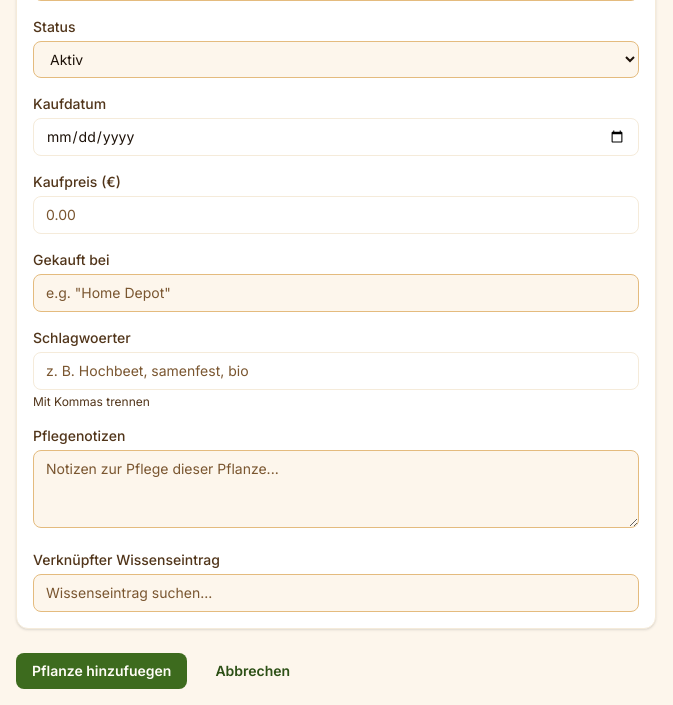
Test: PlantFormPage › create mode › shows validation error when species is empty
(page scrolled)
Click the button "Pflanze hinzufuegen": click(102, 671) [16,653,187,689]
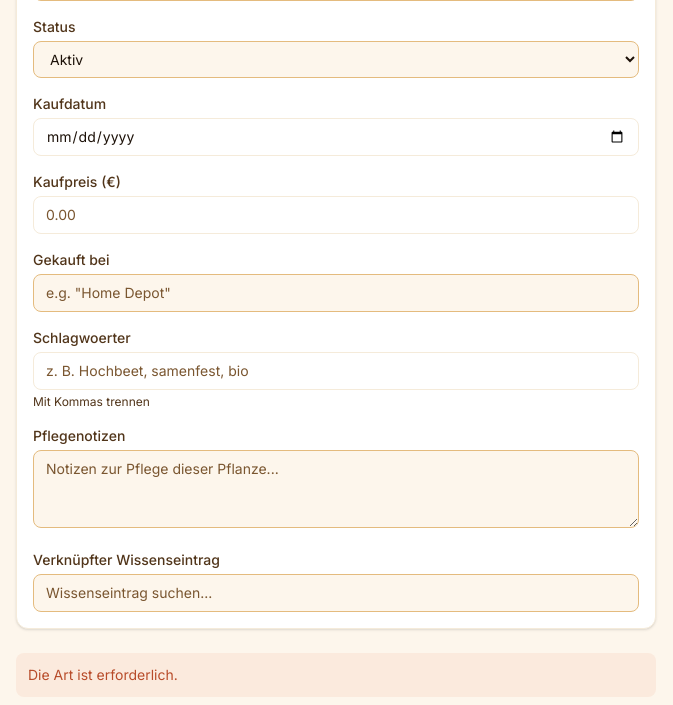
Now the text "Die Art ist erforderlich." is shown, box [28,666,178,683]
